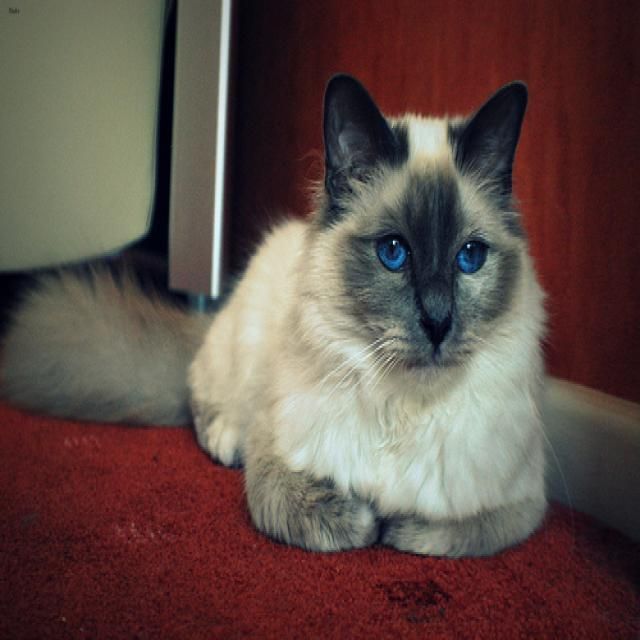Birman: (303, 70, 534, 437)
